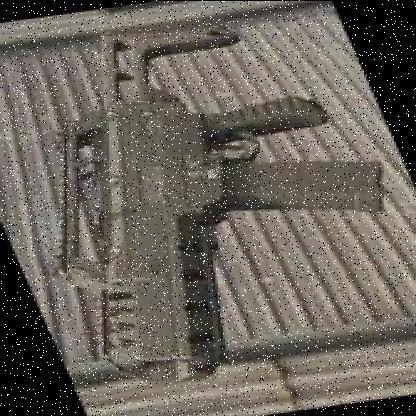rifle: (0, 10, 416, 402)
